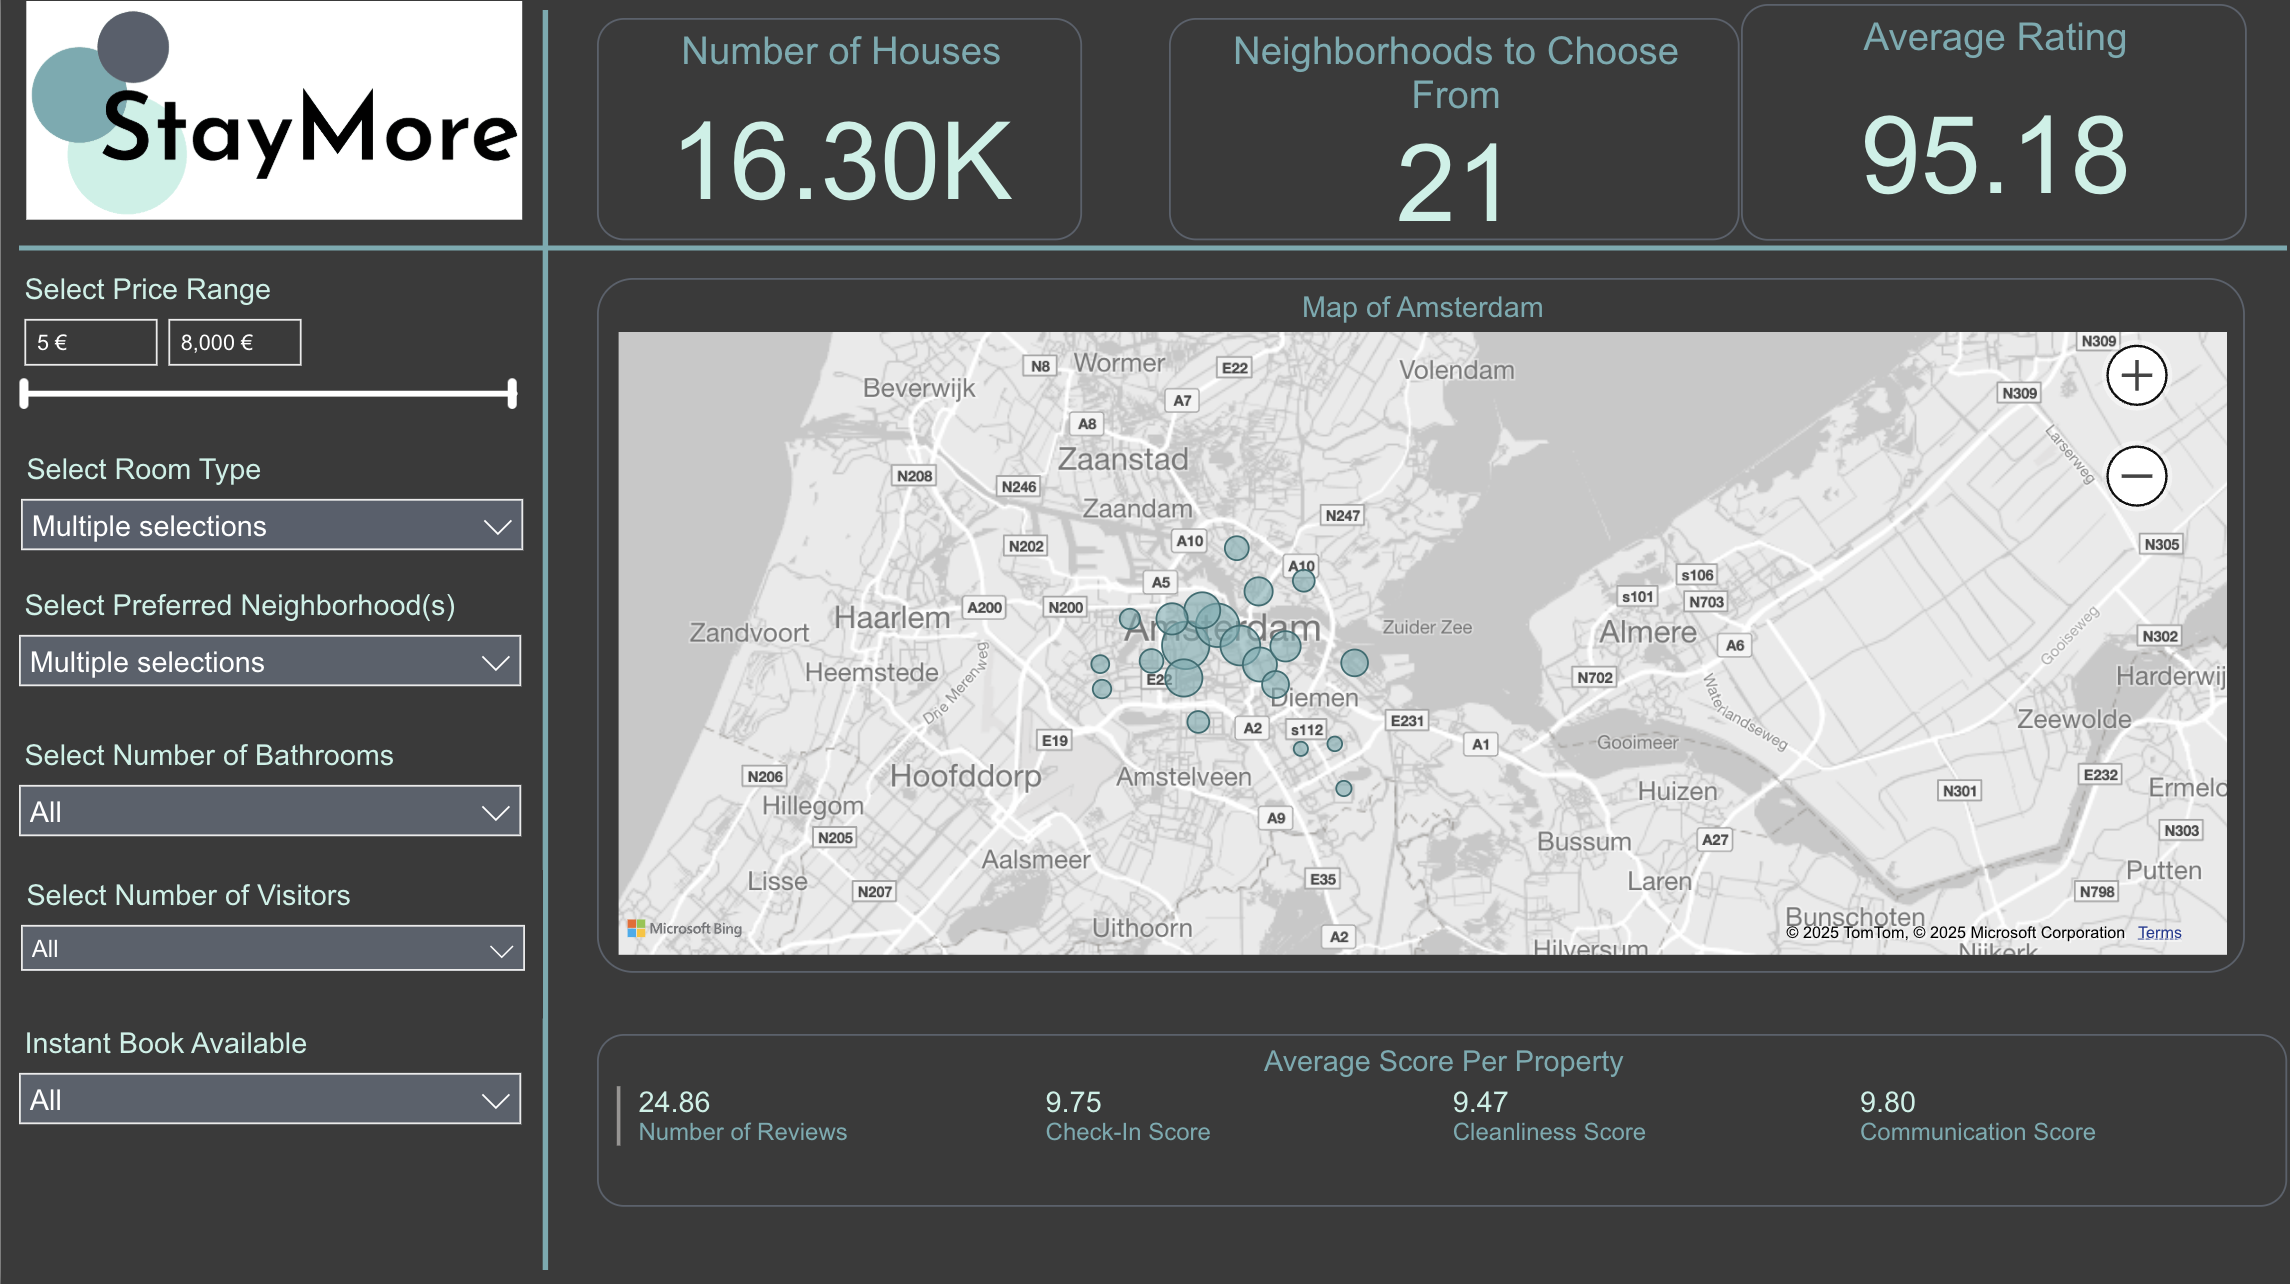

This screenshot's page, from the dashboard's own definition file:
{"tool":"powerbi","page":{"name":"Client","canvas":[1280,720],"ordinal":1},"visuals":[{"type":"slicer","title":"sada","fields":{"Values":["dimProperty.neighbourhood"]},"box":[0,327,298.9,82.6],"z":0},{"type":"slicer","fields":{"Values":["dimProperty.room_type"]},"box":[0.9,251.4,298.9,68.6],"z":1000},{"type":"slicer","fields":{"Values":["dimProperty.Bathrooms"]},"box":[0,409.7,298.9,78.2],"z":2000},{"type":"card","title":"Number of Houses","fields":{"Values":["Count(dimProperty.propertyid)"]},"box":[331.6,14.2,269.3,123.6],"z":3000},{"type":"map","title":"Map of Amsterdam","fields":{"Y":["Avg(dimProperty.latitude)"],"X":["Avg(dimProperty.longitude)"],"Category":["dimProperty.neighbourhood"],"Size":["Sum(dimProperty.Daily_Price)"]},"box":[331.6,159.1,915.6,385.8],"z":4000},{"type":"card","title":"Neighborhoods to Choose From","fields":{"Values":["Count(dimProperty.neighbourhood)"]},"box":[649,14.2,316.9,123.4],"z":5000},{"type":"basicShape","box":[298.7,0,7.1,720],"z":6000},{"type":"basicShape","box":[0,131.6,1280,12.4],"z":7000},{"type":"multiRowCard","title":"Average Score Per Property","fields":{"Values":["Avg(dimProperty.number_of_reviews)","Avg(dimProperty.review_scores_checkin)","Avg(dimProperty.review_scores_cleanliness)","Avg(dimProperty.review_scores_communication)"]},"box":[331.4,579.3,938.9,95.8],"z":8000},{"type":"slicer","fields":{"Values":["dimProperty.instant_bookable"]},"box":[0,570.5,298.9,95.8],"z":9000},{"type":"card","title":"Average Rating","fields":{"Values":["Avg(dimProperty.review_scores_rating)"]},"box":[966.2,6.2,280.9,131.6],"z":10000},{"type":"image","box":[5.3,0,293,131.4],"z":11000},{"type":"slicer","fields":{"Values":["dimProperty.Daily_Price"]},"box":[0,151.2,299.8,100],"z":12000},{"type":"slicer","fields":{"Values":["dimProperty.accommodates"]},"box":[0.9,487.9,299.8,82.6],"z":13000}]}

Visuals, with their boxes in screenshot pixels (x1, y1, x2, y2), scaled from the page's 1280x720 canvas onto the 2290x1284 screenshot:
"sada" slicer: left=0, top=583, right=535, bottom=730
slicer - dimProperty.room_type: left=2, top=448, right=536, bottom=571
slicer - dimProperty.Bathrooms: left=0, top=731, right=535, bottom=870
"Number of Houses" card: left=593, top=25, right=1075, bottom=246
"Map of Amsterdam" map: left=593, top=284, right=2231, bottom=972
"Neighborhoods to Choose From" card: left=1161, top=25, right=1728, bottom=245
basicShape: left=534, top=0, right=547, bottom=1283
basicShape: left=0, top=235, right=2289, bottom=257
"Average Score Per Property" multiRowCard: left=593, top=1033, right=2273, bottom=1204
slicer - dimProperty.instant_bookable: left=0, top=1017, right=535, bottom=1188
"Average Rating" card: left=1729, top=11, right=2231, bottom=246
image: left=9, top=0, right=534, bottom=234
slicer - dimProperty.Daily_Price: left=0, top=270, right=536, bottom=448
slicer - dimProperty.accommodates: left=2, top=870, right=538, bottom=1017
